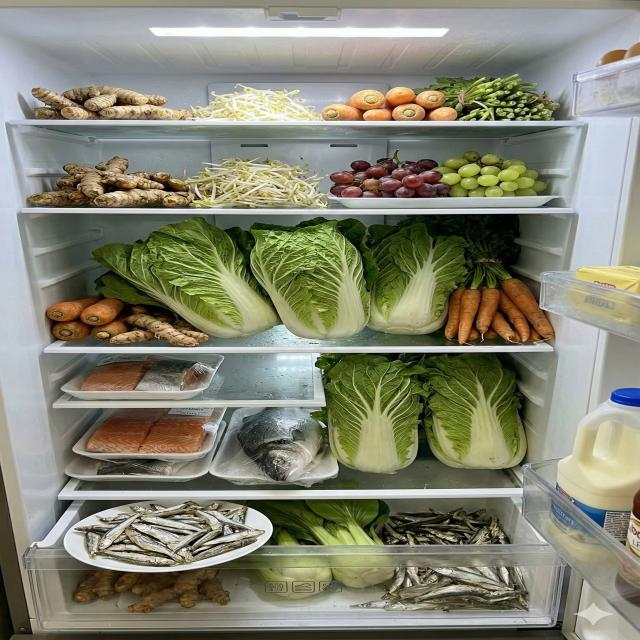bean_sprouts: (182, 156, 331, 208), (186, 83, 324, 121)
cabbage: (91, 217, 469, 341), (315, 352, 528, 474)
carrot: (445, 279, 555, 345), (322, 86, 457, 120), (46, 296, 128, 342)
fish: (74, 500, 266, 567), (85, 408, 217, 476), (236, 407, 326, 482), (79, 354, 206, 391)
grape: (329, 148, 548, 198)
pakchoy: (246, 498, 396, 598)
